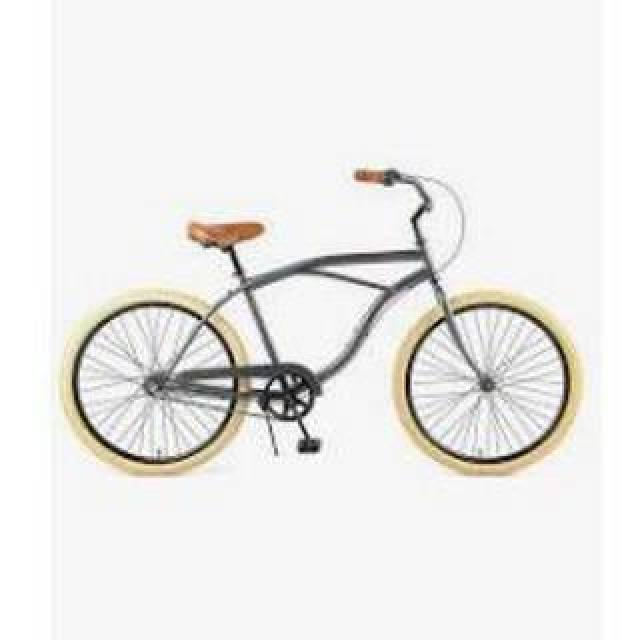Person: (67, 160, 587, 480)
